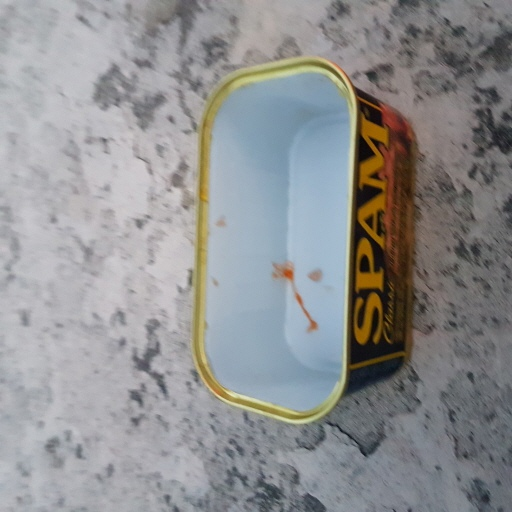Metal_2: (187, 57, 414, 430)
